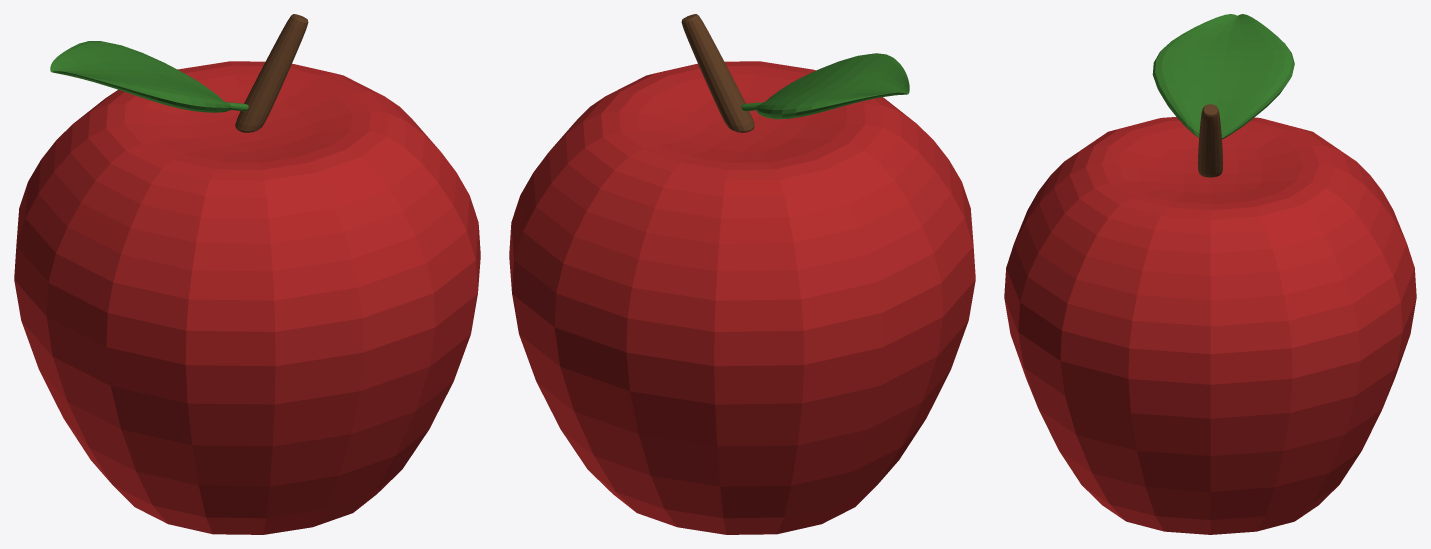
Rendered from Nourriture.glb.
3 renders of one model, left to right at view 1: azimuth 30°, elevation 25°; view 2: azimuth 150°, elevation 25°; view 3: azimuth 270°, elevation 25°, orthographic. The views are drawn at different scales.
Visible parts, largest first — view 1: Nourriture; view 2: Nourriture; view 3: Nourriture.
Part boxes in pixels (bbox=[...]): Nourriture: bbox=[14, 14, 480, 534]; Nourriture: bbox=[509, 14, 975, 534]; Nourriture: bbox=[1004, 14, 1416, 534].
Size of the model in its own units: 0.757 by 0.8253 by 0.757.
